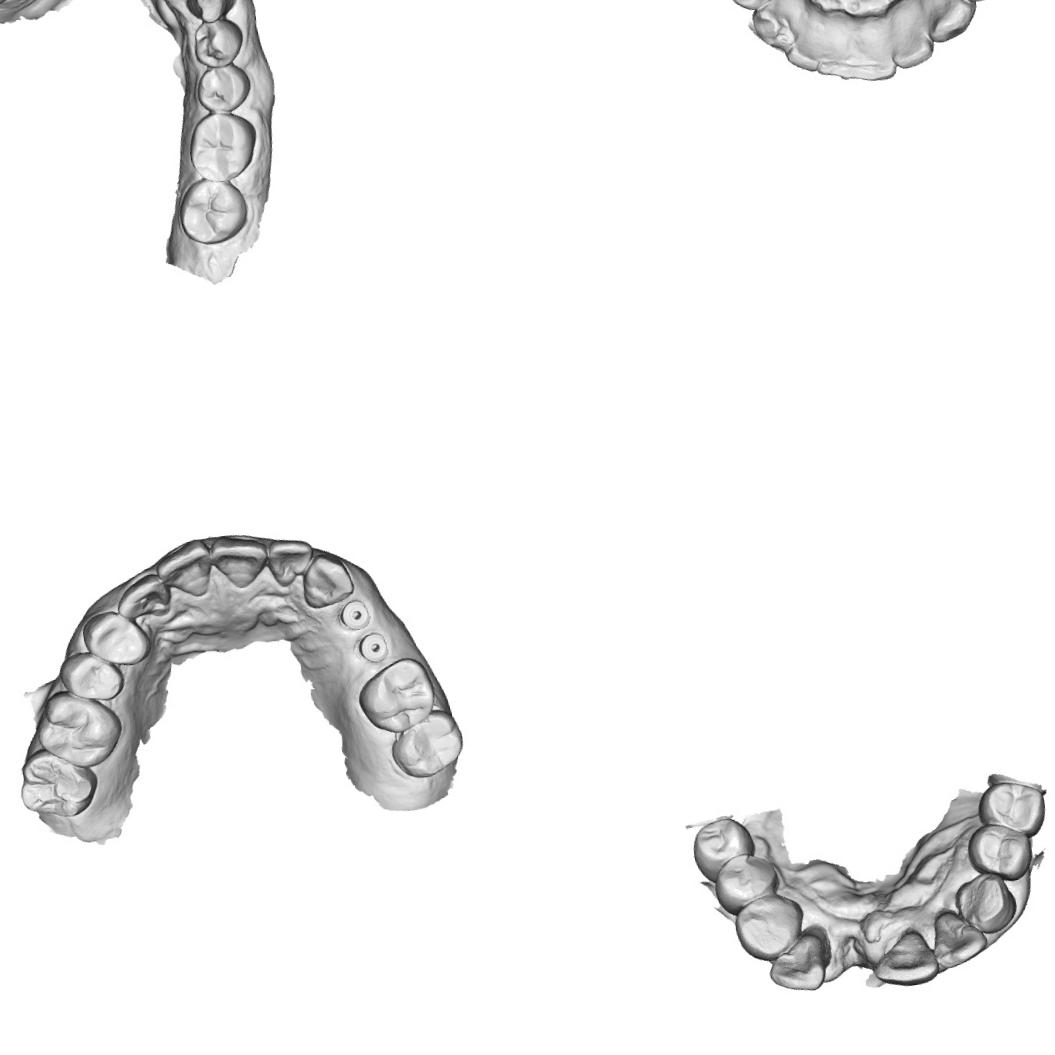canine: (763, 924, 833, 997), (950, 868, 1020, 938), (741, 0, 808, 57), (298, 550, 358, 611), (915, 0, 979, 45), (180, 0, 239, 26)
implant: (356, 629, 392, 665), (336, 598, 373, 632)
incisor: (868, 925, 942, 992), (926, 902, 991, 971), (152, 536, 217, 604), (208, 530, 272, 592), (850, 18, 900, 86), (112, 570, 174, 622), (886, 12, 937, 70), (265, 534, 318, 588), (813, 22, 858, 83), (780, 25, 826, 74)
molar: (31, 683, 127, 774), (353, 653, 439, 738), (14, 741, 102, 824), (173, 170, 260, 247), (386, 706, 468, 782), (184, 108, 262, 186), (688, 813, 759, 886)
premolar: (730, 888, 810, 966), (973, 775, 1050, 846), (710, 848, 784, 919), (963, 817, 1036, 888), (80, 606, 154, 672), (56, 646, 128, 708), (192, 62, 255, 116), (190, 15, 248, 72), (722, 0, 779, 15)
